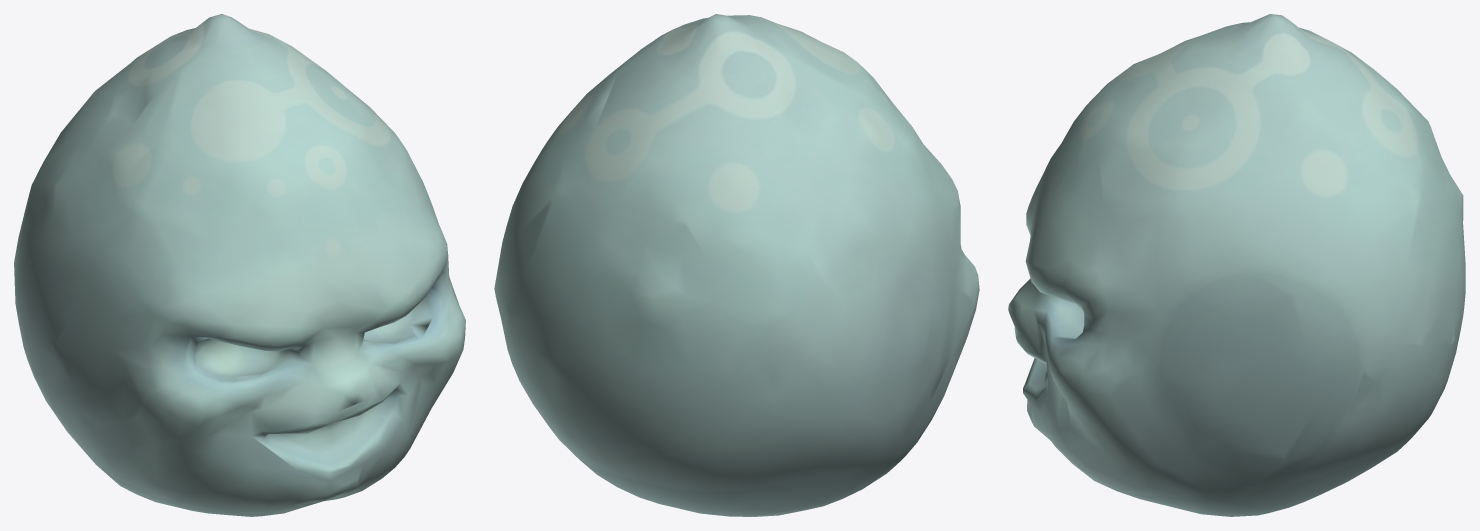
The model's file is ARM1_Head_B01.glb.
3 renders of one model, left to right at view 1: azimuth 30°, elevation 25°; view 2: azimuth 150°, elevation 25°; view 3: azimuth 270°, elevation 25°, orthographic. The views are drawn at different scales.
Parts seen in each view (by area): view 1: ARM1_Head_B01; view 2: ARM1_Head_B01; view 3: ARM1_Head_B01.
Boxes of the visible parts, x1,y1,x2,y2 form: ARM1_Head_B01: [14, 14, 465, 516]; ARM1_Head_B01: [494, 14, 979, 516]; ARM1_Head_B01: [1008, 14, 1465, 516].
Size of the model in its own units: 0.738 by 0.8994 by 0.7875.
Materials: 1 (1 with a texture image).
